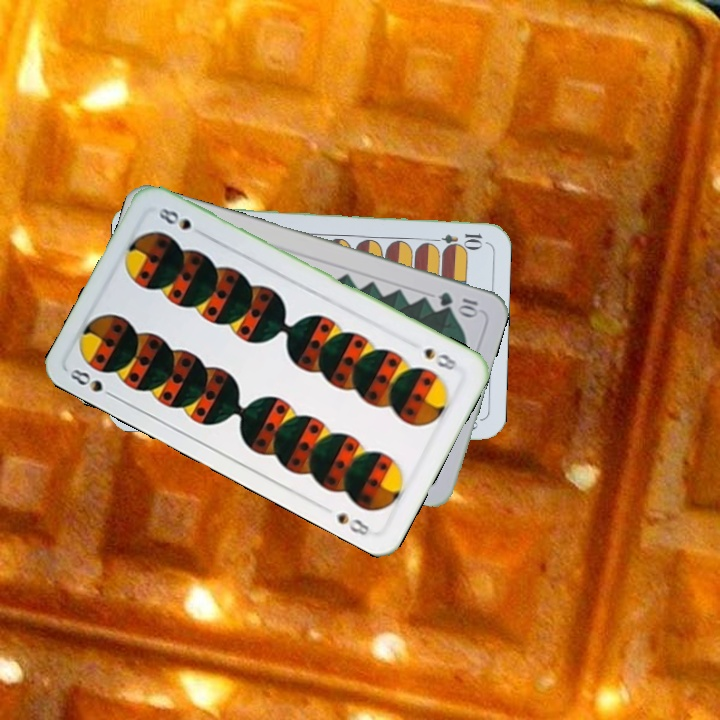E10: (426, 229, 485, 248)
G10: (434, 288, 483, 318)
S8: (64, 364, 120, 402), (419, 344, 465, 376)
